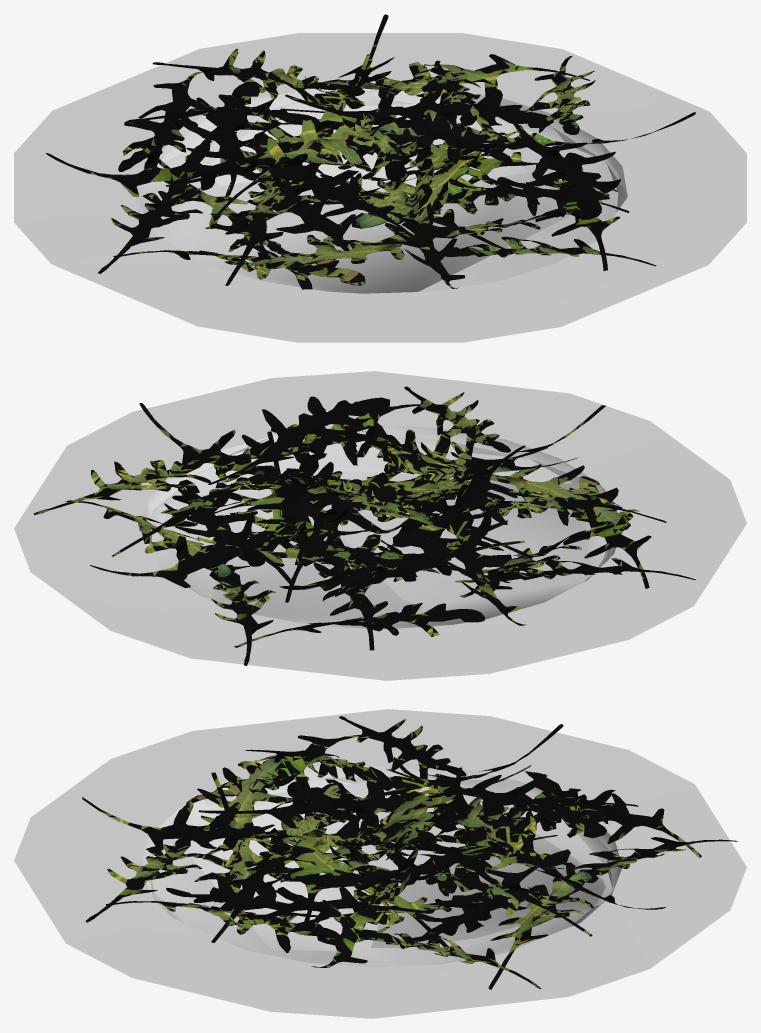
The picture shows the model from 3 angles, top to bottom: view 1: azimuth 30°, elevation 25°; view 2: azimuth 150°, elevation 25°; view 3: azimuth 270°, elevation 25°; orthographic projection. The views are drawn at different scales.
Size of the model in its own units: 0.3333 by 0.0405 by 0.3333.
2 materials, 1 textured.
